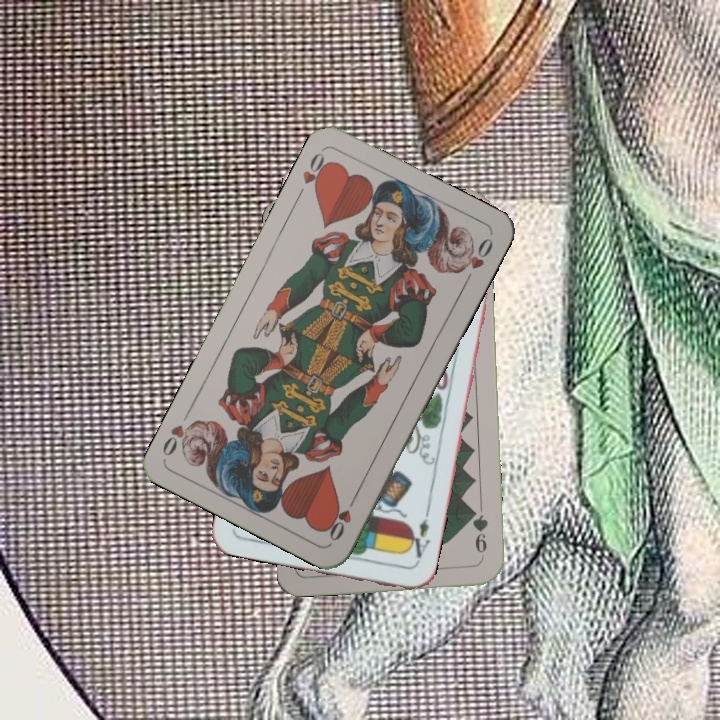EA: (403, 508, 434, 566)
G9: (467, 504, 491, 563)
HO: (292, 148, 334, 202), (324, 490, 360, 544)
